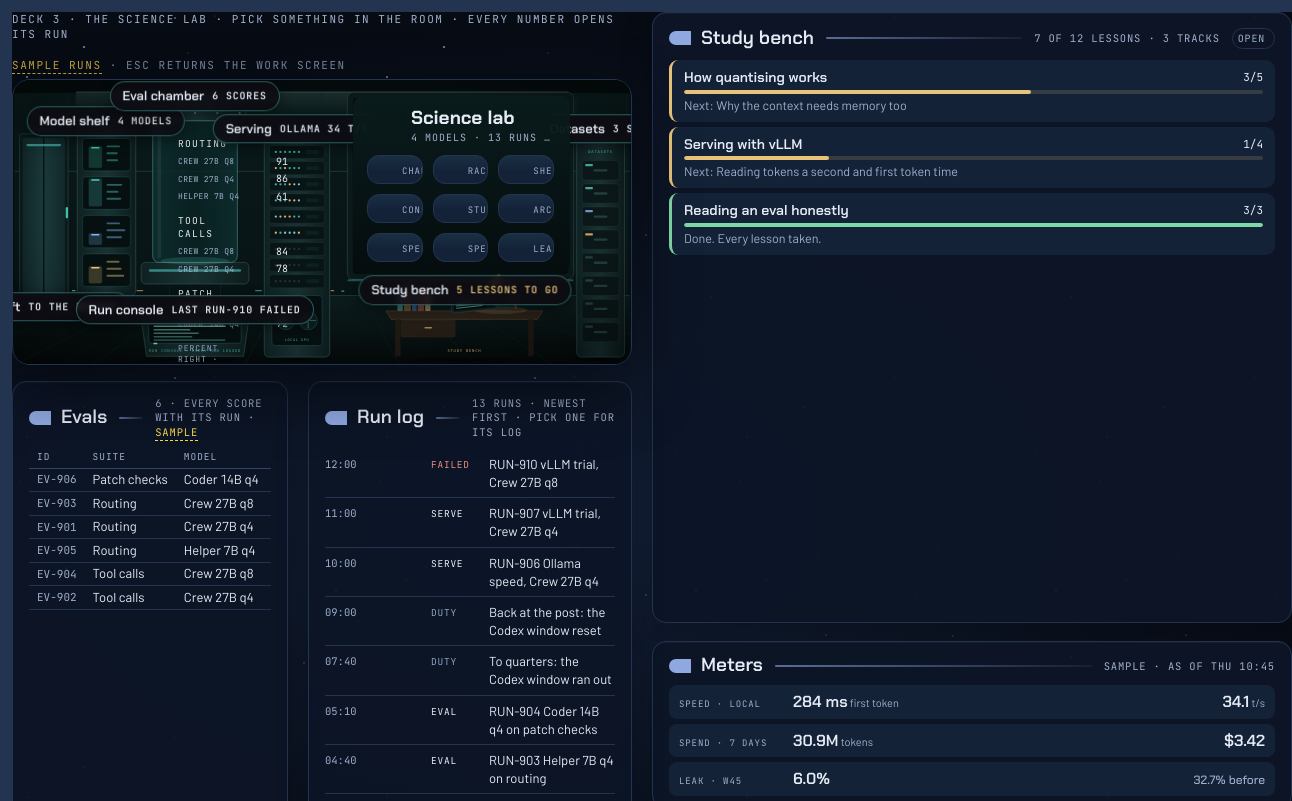
Test case: science lab board › the study bench opens a track with its lessons and the runs they read
Click the button with class "lspot-study" at (465, 315), box [383, 272, 547, 359]
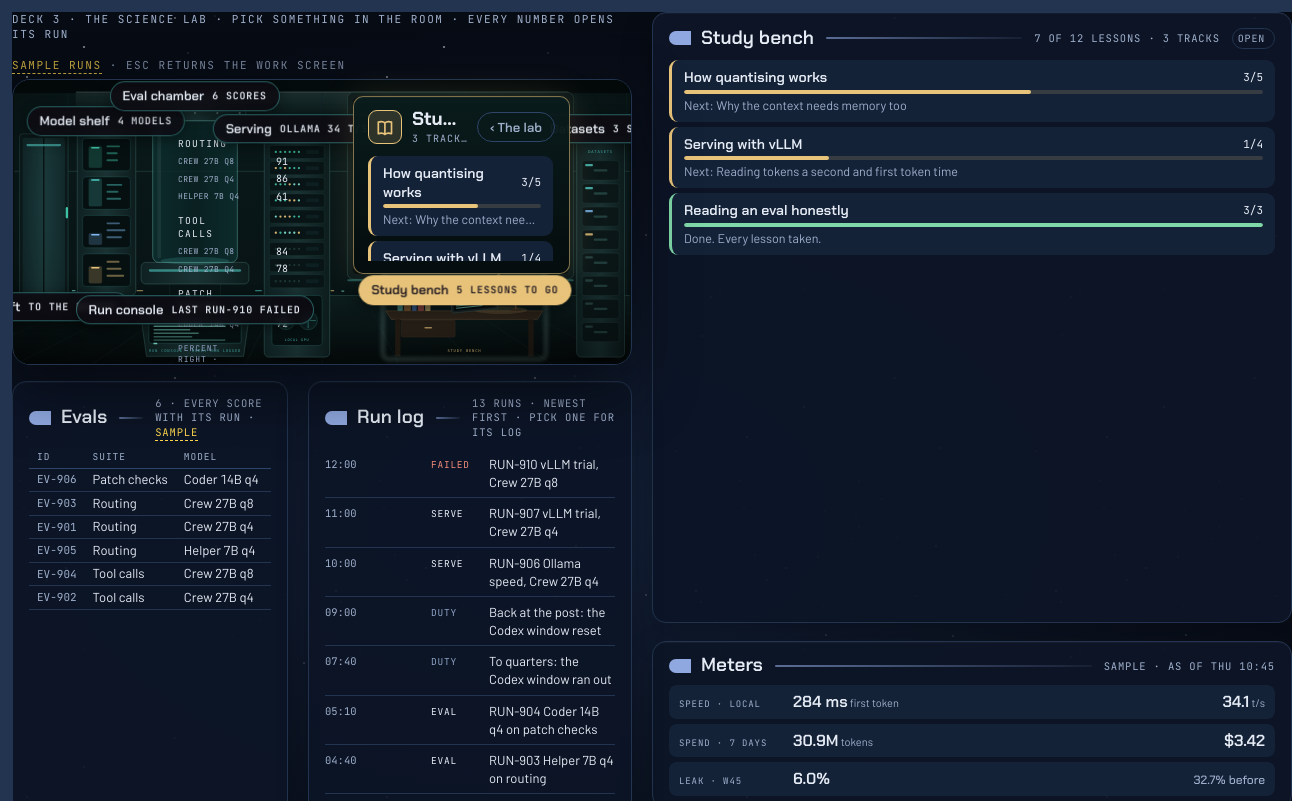
Click the button with class "track" next to "86" at (460, 196), box [368, 156, 553, 236]
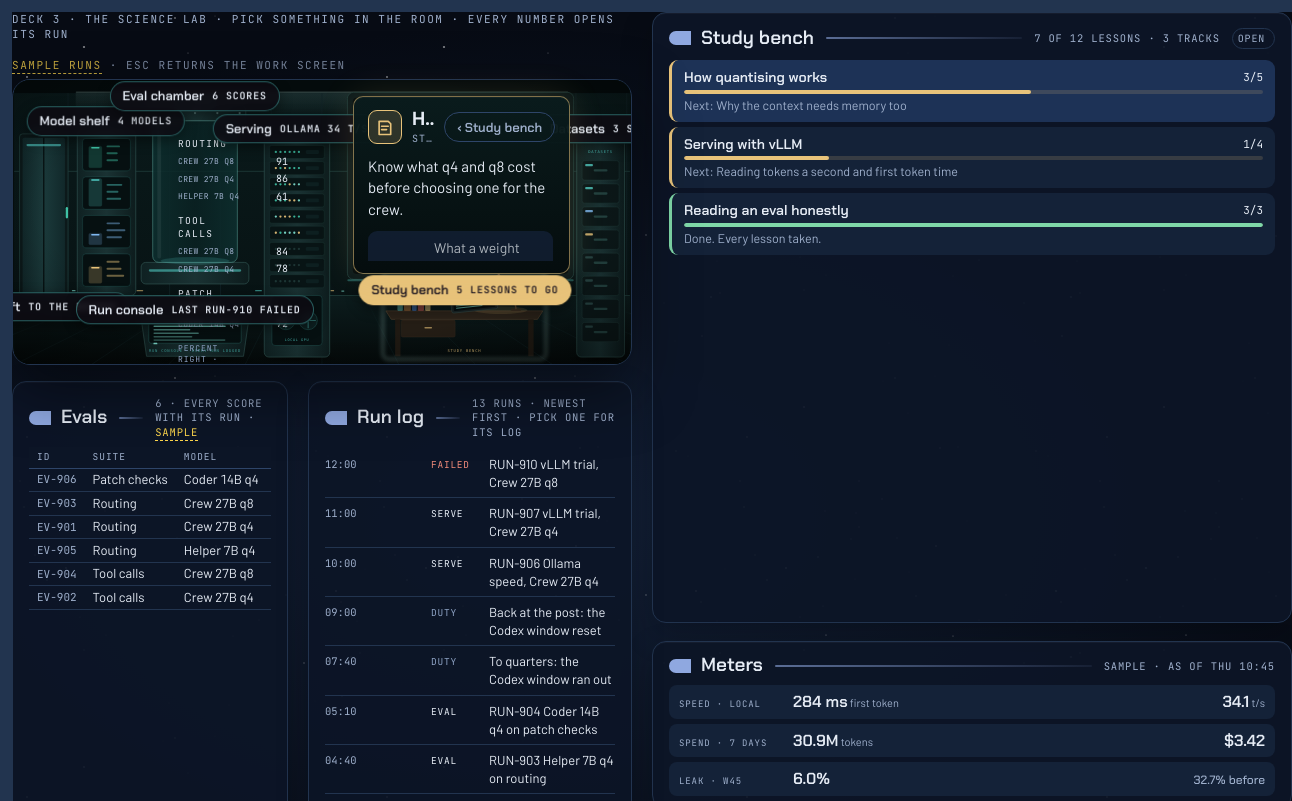
Now the text with class "con-title" reads "How quantising works", box [412, 106, 570, 131]
